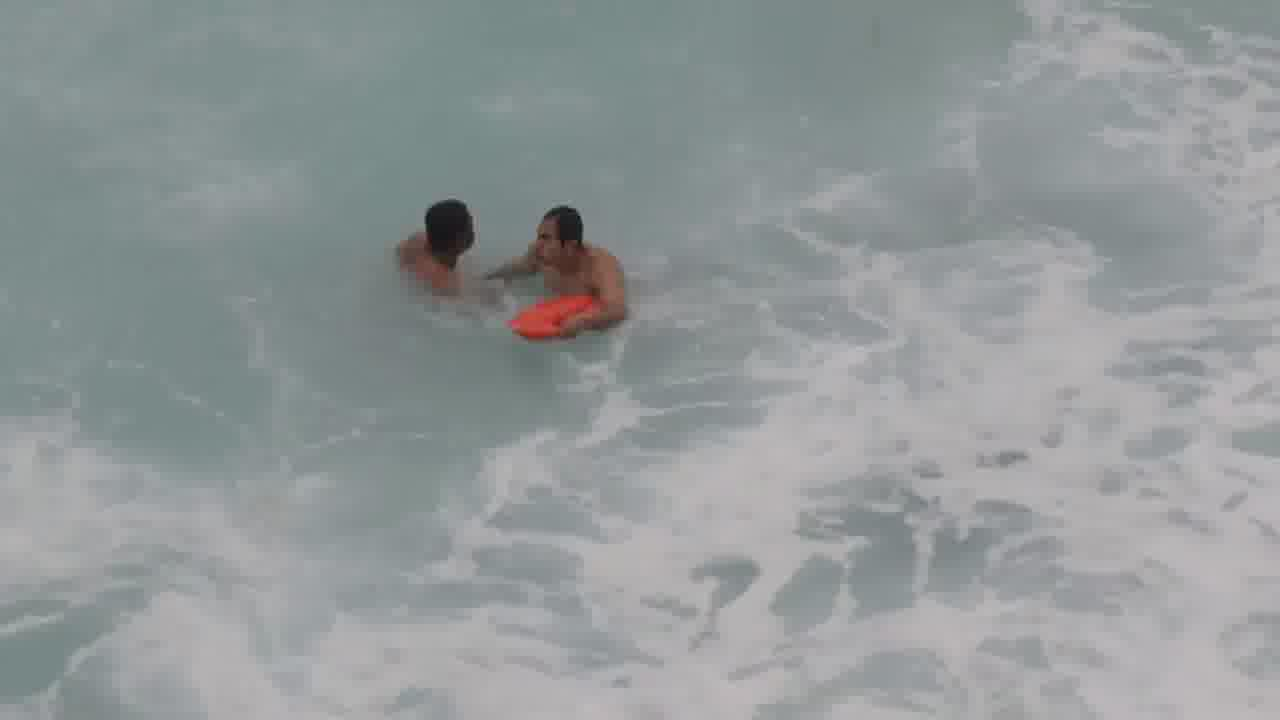swimmer: (524, 193, 627, 312), (403, 177, 482, 299)
